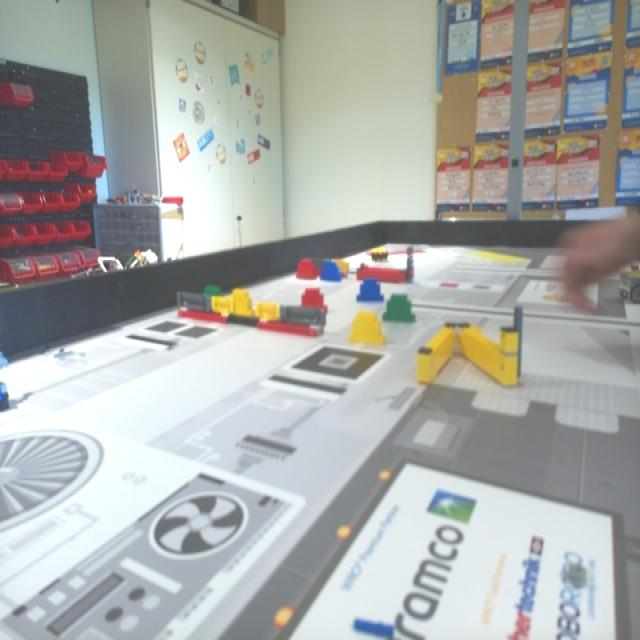blau: (350, 276, 386, 305), (317, 256, 343, 282)
gruen: (383, 292, 416, 322), (200, 284, 223, 300)
rot: (299, 286, 329, 317), (294, 254, 317, 285)
yellow: (349, 306, 387, 352), (229, 288, 256, 318)
